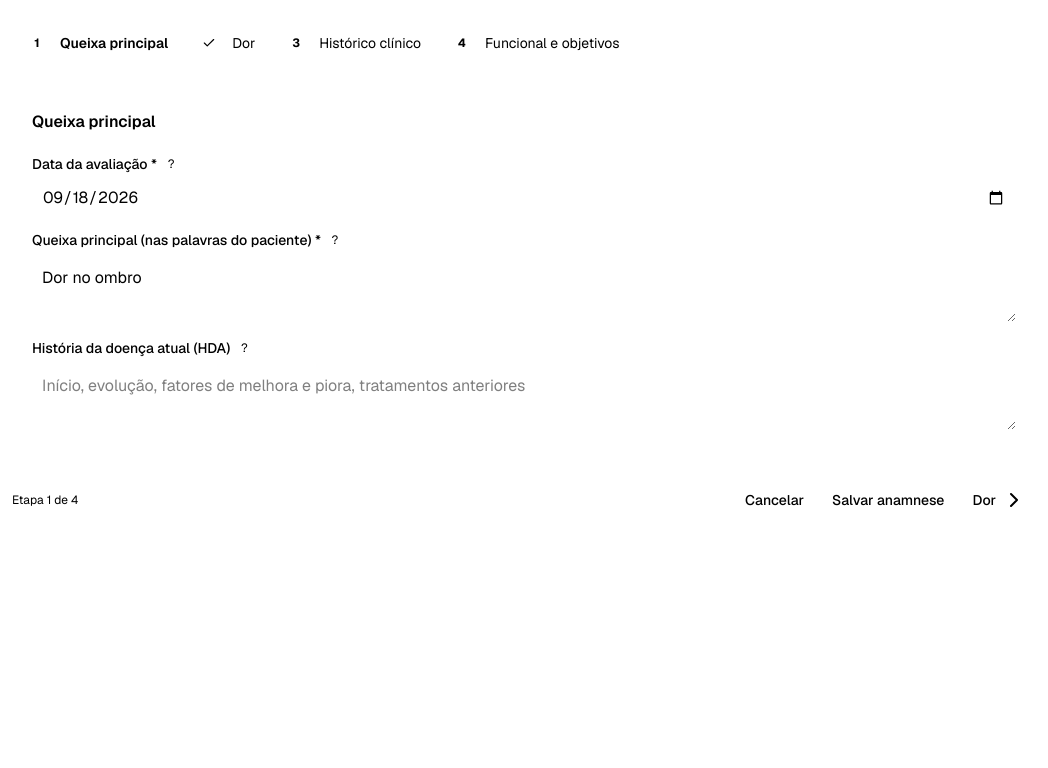
Scenario: AnamnesisForm em etapas › leva à primeira etapa com erro retornado pela action
Click the button "Salvar anamnese" at (888, 500), box [822,482,954,518]
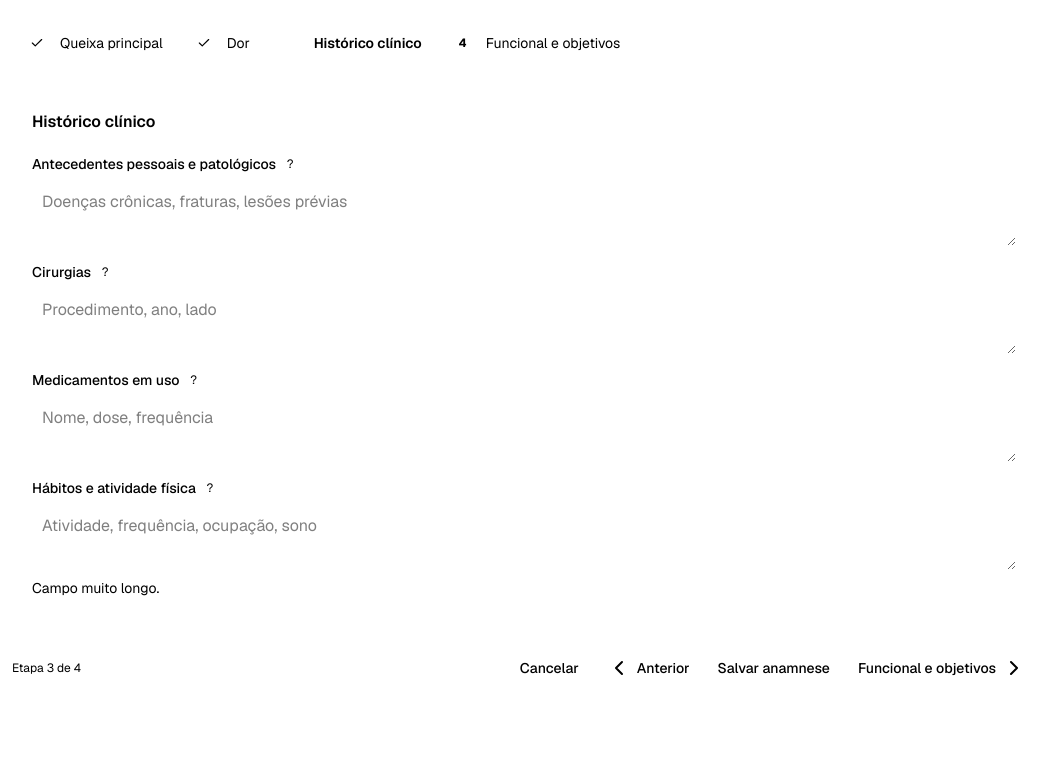
Expected: the element "Histórico clínico" is shown
Expected: the text "Campo muito longo." is shown, [32,579,159,597]
